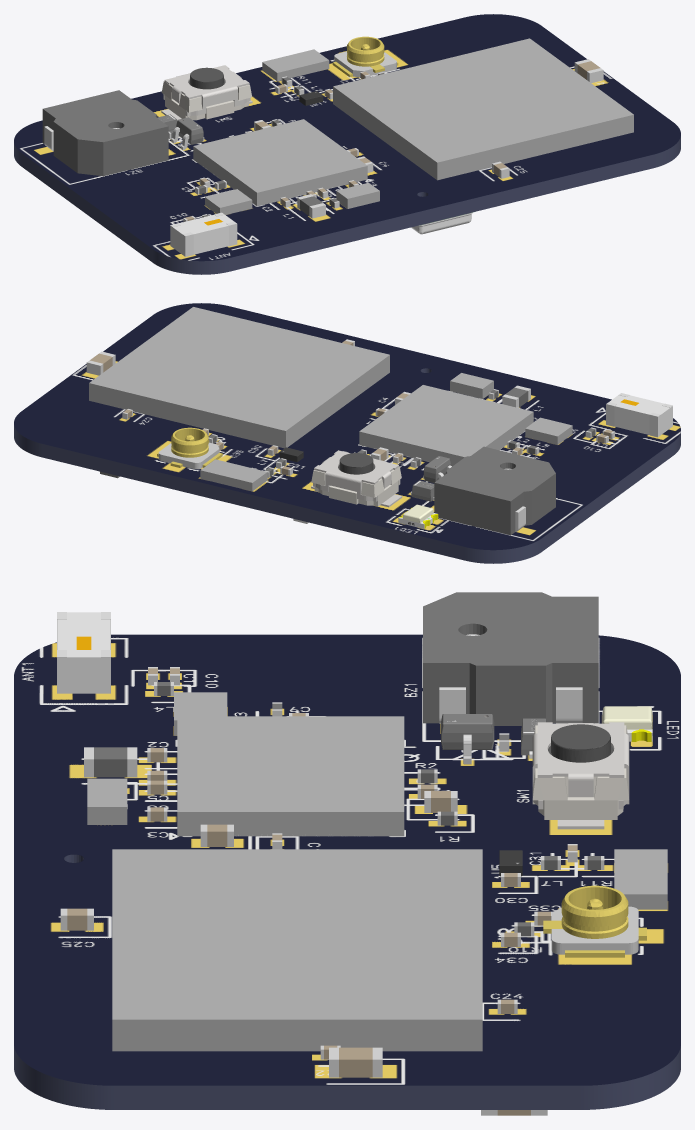
Rendered from safewalk-cuff.glb.
The picture shows the model from 3 angles, top to bottom: view 1: azimuth 30°, elevation 25°; view 2: azimuth 150°, elevation 25°; view 3: azimuth 270°, elevation 25°; orthographic projection. The views are drawn at different scales.
Parts seen in each view (by area): view 1: Box0, U4, U1, BZ1, SW1, ANT1, J3, ANT2, X1, X2, Q1, MK1 (+2 smaller); view 2: Box0, U4, U1, BZ1, SW1, ANT1, J3, ANT2, X1, X2, LED1, Q1 (+3 smaller); view 3: Box0, U4, U1, BZ1, SW1, J3, ANT1, ANT2, Q1, X2, C20, L1 (+4 smaller).
Boxes of the visible parts, x1,y1,x2,y2 form: Box0: [14, 14, 680, 274]; U4: [333, 38, 633, 180]; U1: [193, 119, 367, 206]; BZ1: [42, 90, 168, 176]; SW1: [161, 65, 252, 120]; ANT1: [170, 212, 237, 256]; J3: [332, 36, 398, 77]; ANT2: [262, 49, 329, 81]; X1: [205, 189, 252, 214]; X2: [336, 183, 379, 208]; Q1: [171, 117, 204, 150]; MK1: [411, 211, 475, 234]; Box0: [14, 303, 680, 563]; U4: [89, 307, 389, 448]; U1: [359, 385, 533, 466]; BZ1: [434, 446, 555, 535]; SW1: [311, 450, 402, 507]; ANT1: [606, 393, 672, 437]; J3: [157, 427, 222, 469]; ANT2: [200, 459, 267, 491]; X1: [525, 417, 572, 444]; X2: [450, 373, 493, 398]; LED1: [398, 504, 438, 528]; Q1: [423, 456, 451, 482]; Box0: [14, 634, 680, 1109]; U4: [112, 849, 482, 1051]; U1: [177, 716, 404, 836]; BZ1: [423, 592, 598, 725]; SW1: [532, 722, 629, 829]; J3: [543, 885, 646, 957]; ANT1: [57, 612, 110, 693]; ANT2: [614, 849, 667, 909]; Q1: [441, 714, 494, 764]; X2: [87, 778, 127, 824]; C20: [329, 1047, 382, 1077]; L1: [84, 747, 137, 777].
Size of the model in its own units: 32 by 3.96 by 20.
Materials: 37 (2 with a texture image).
